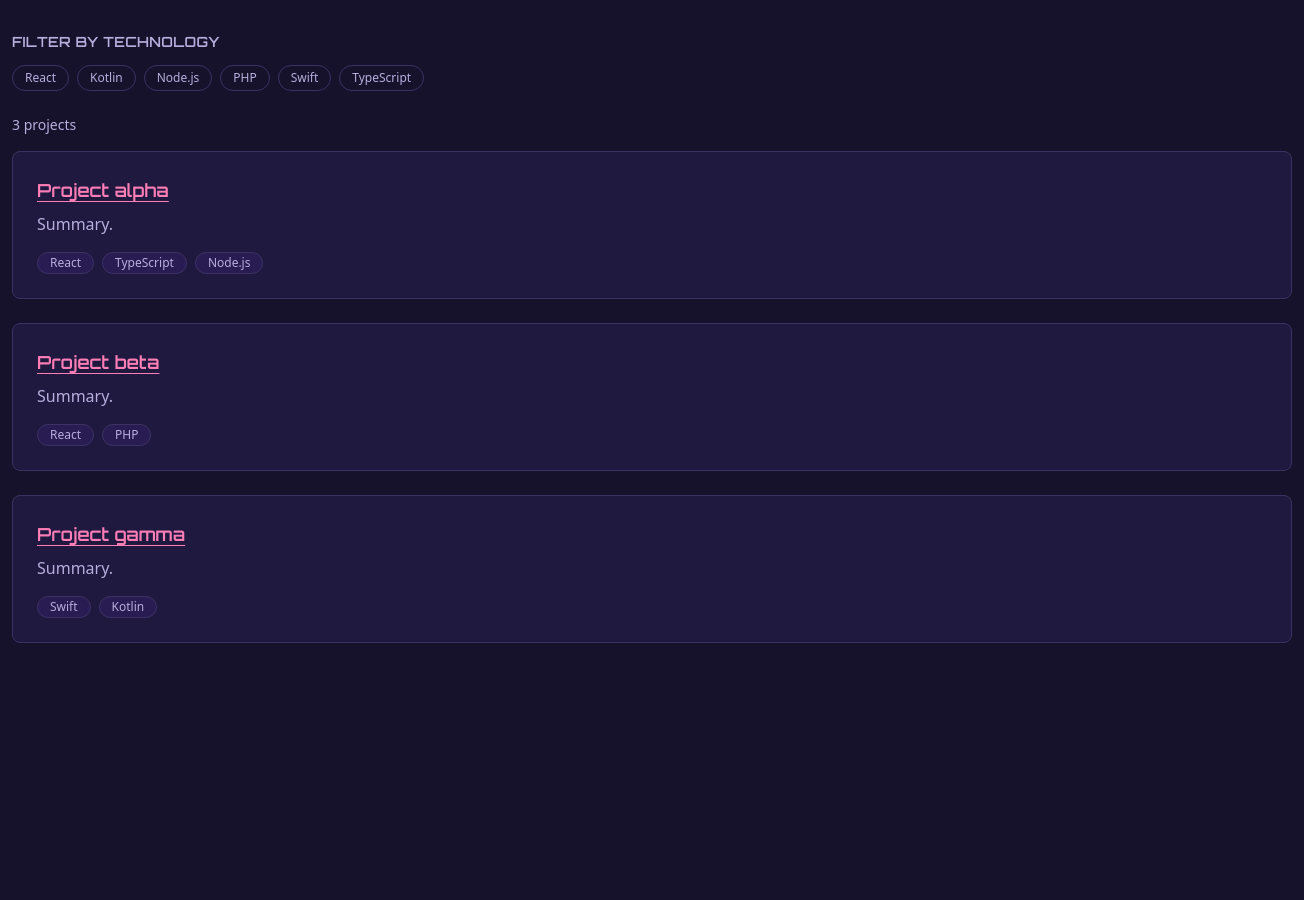
Test case: ProjectFilter › combines multiple selections with AND
This screenshot has width=1304, height=900.
Click the button "React". click: (41, 78)
box: [12, 65, 69, 91]
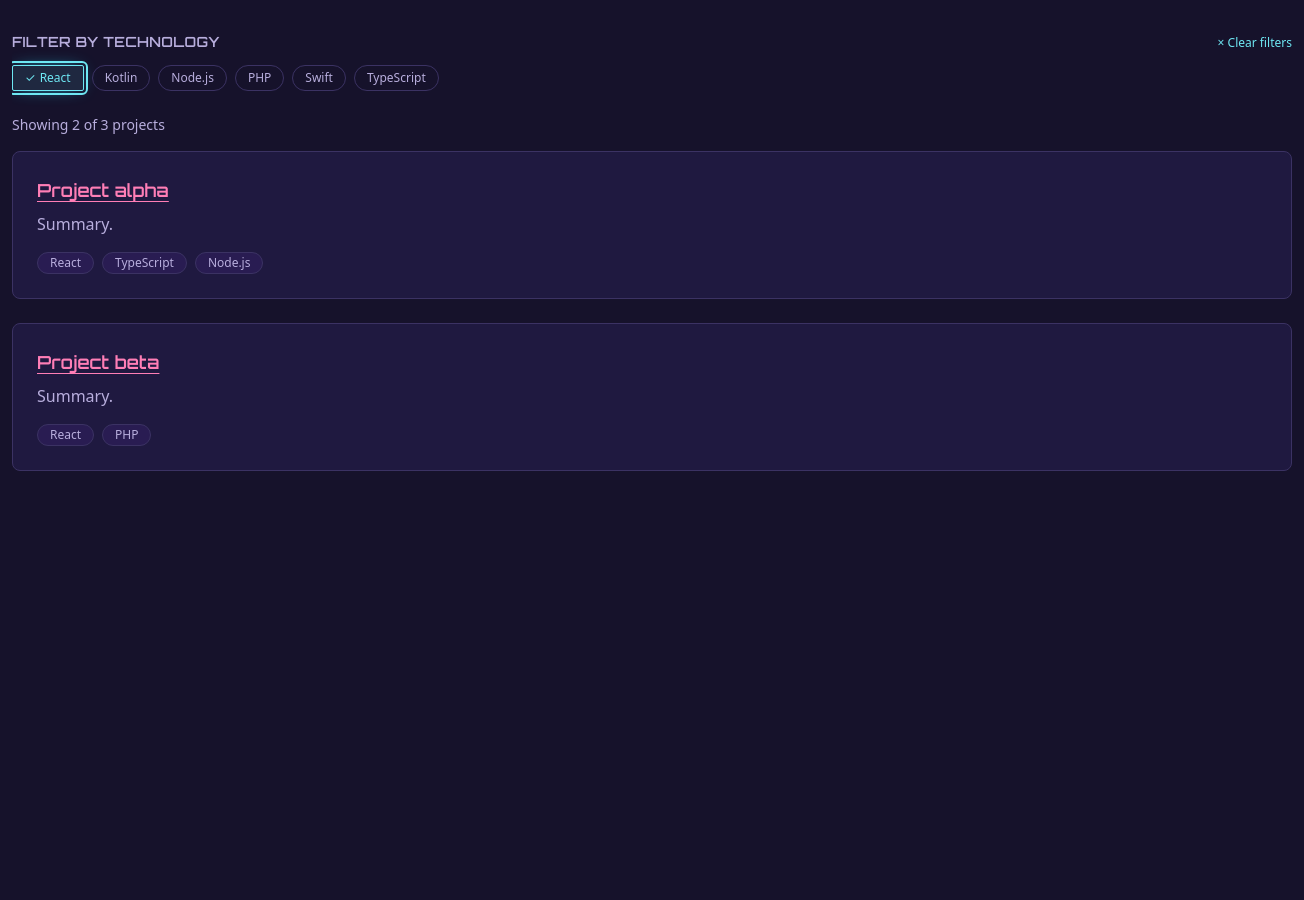
Click the button "TypeScript". click: (396, 78)
box: [354, 65, 439, 91]
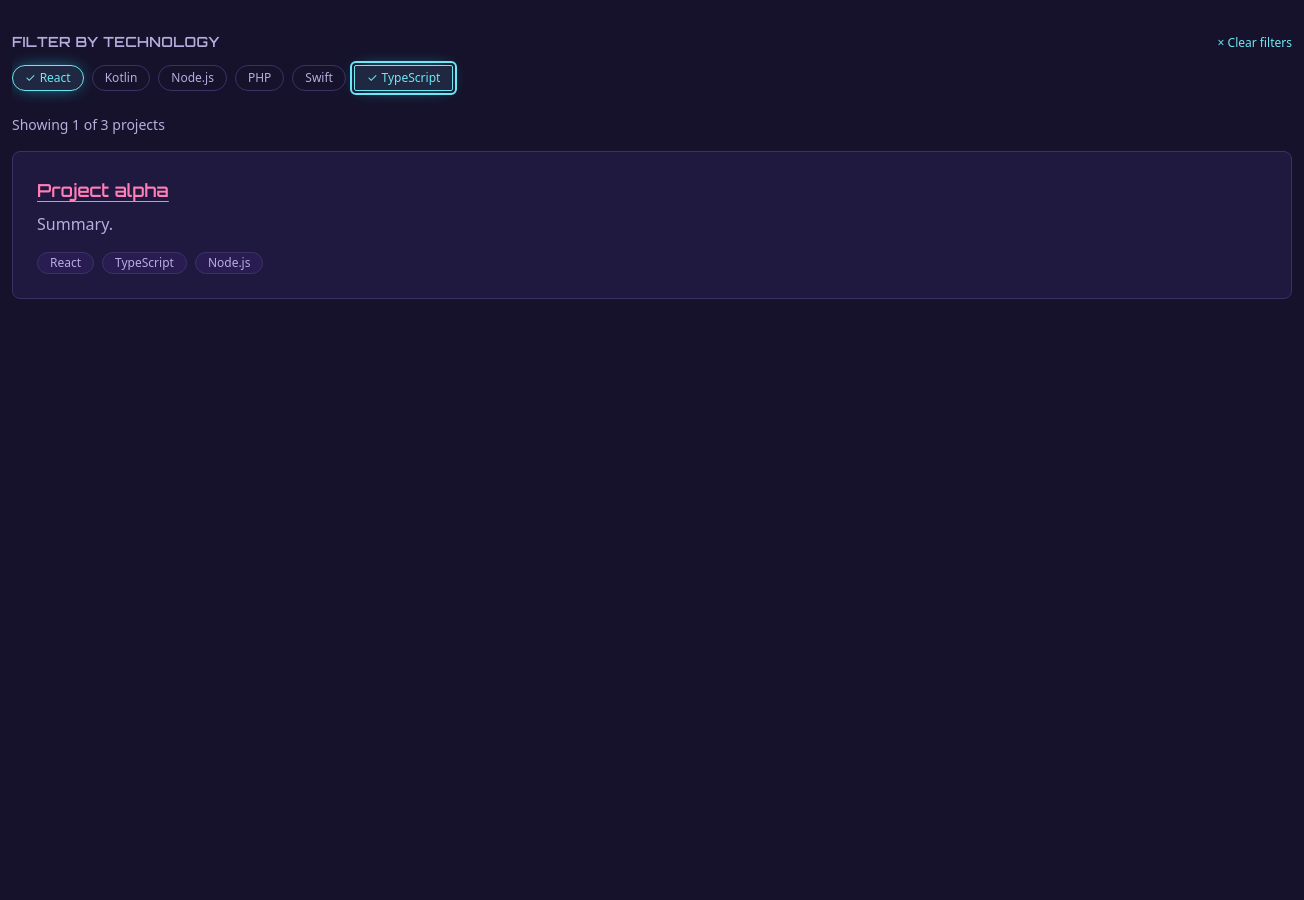
expect the link "Project alpha" is shown: met, box [37, 179, 169, 201]
expect the link "Project beta" is gone: met
expect the message reads "Showing 1 of 3 projects": met, box [12, 115, 165, 134]
